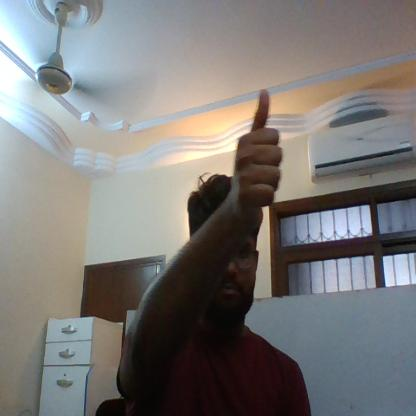thumbs-up: (230, 85, 288, 200)
